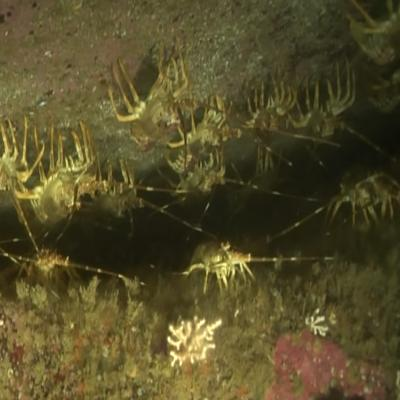lobster: (122, 58, 184, 150), (33, 129, 92, 224), (171, 101, 223, 180), (99, 160, 143, 223), (192, 235, 251, 280), (242, 85, 285, 143), (308, 82, 346, 141), (22, 244, 64, 285)
